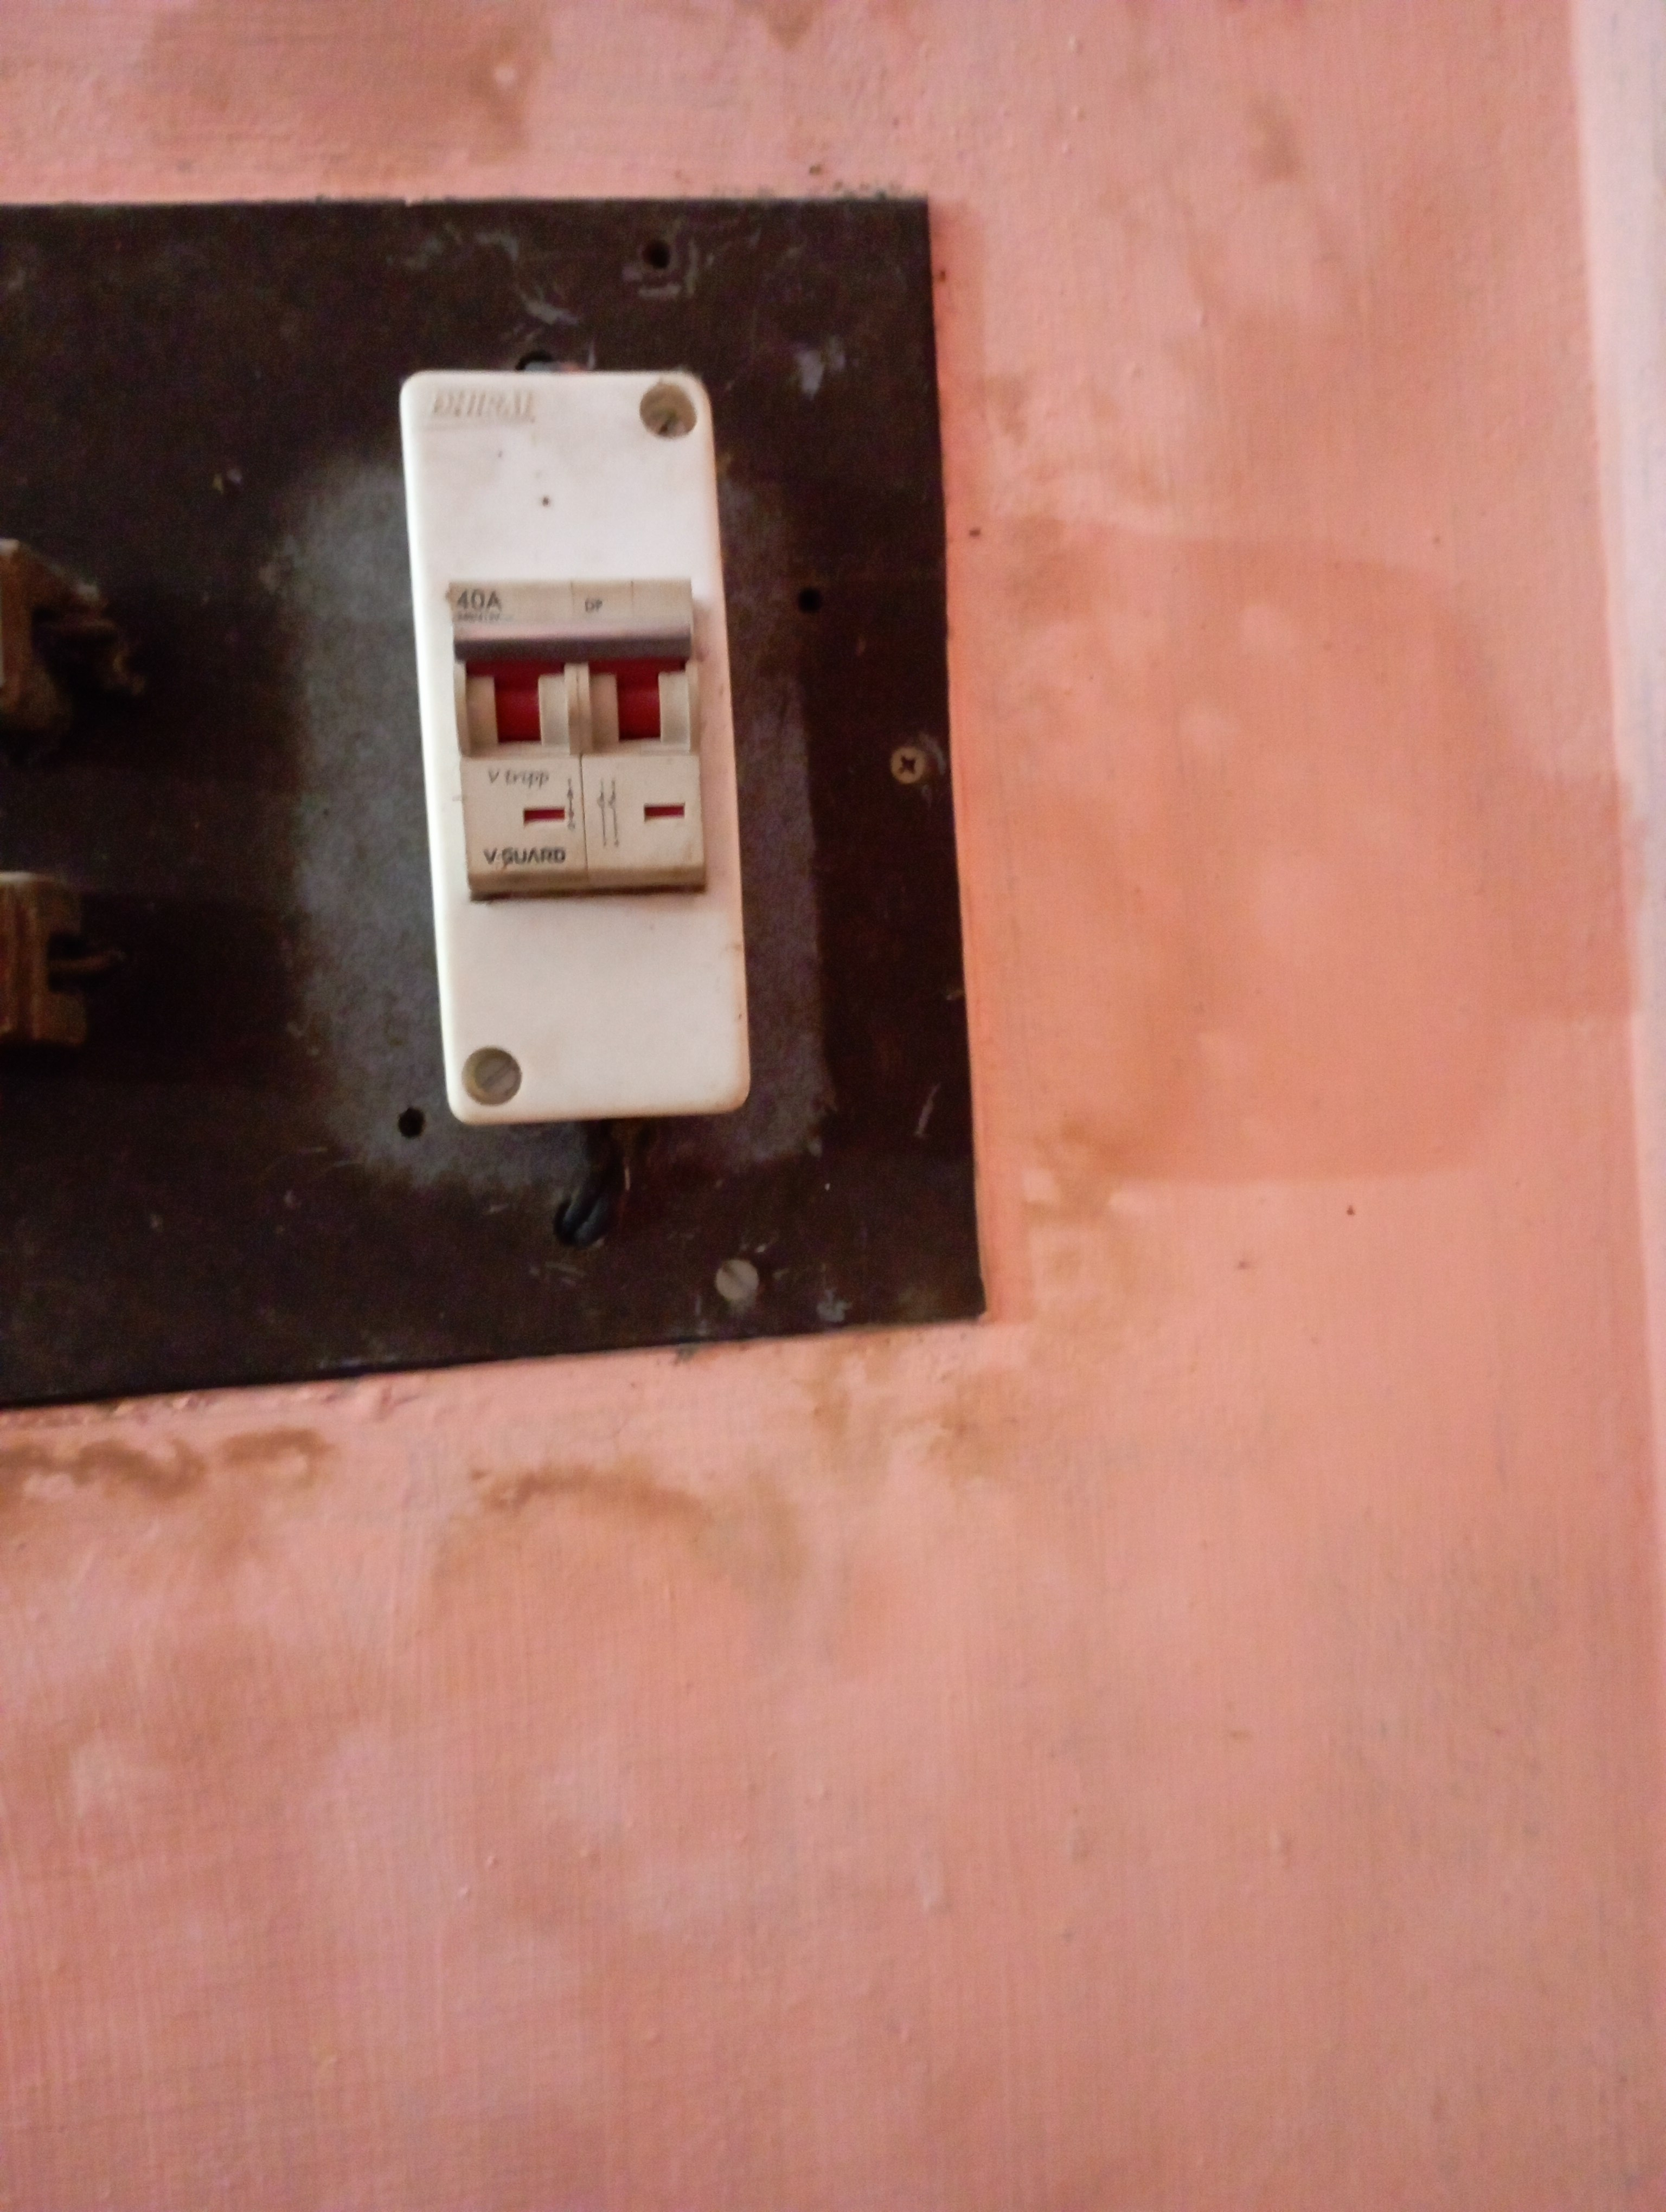ciruit_breaker: (392, 330, 781, 1177)
fuse: (0, 850, 150, 1128), (0, 511, 142, 762)
